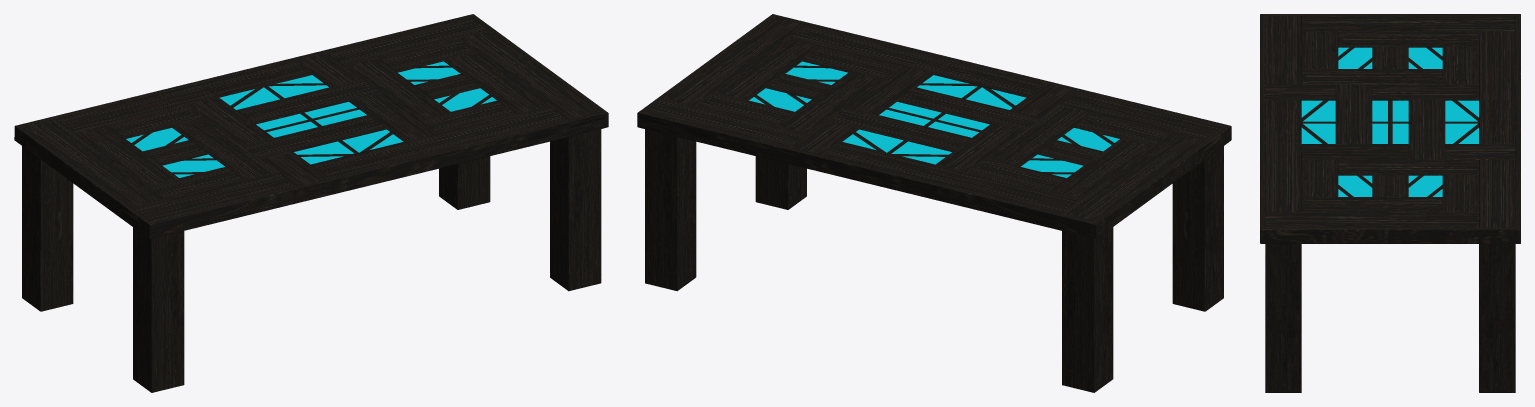
Rendered from Coffee Table Designed.fbx.
The picture shows the model from 3 angles, left to right: view 1: azimuth 30°, elevation 25°; view 2: azimuth 150°, elevation 25°; view 3: azimuth 270°, elevation 25°; orthographic projection. The views are drawn at different scales.
Parts seen in each view (by area): view 1: Cube.033, Cube.030, Base, Cube.003, Cube.002, Cube.008, Cube.001, Cube.006, Cube, Cube.031, Cube.021, Cube.020 (+18 smaller); view 2: Cube.033, Cube.030, Base, Cube.002, Cube.003, Cube.008, Cube.001, Cube.006, Cube, Cube.031, Cube.020, Cube.021 (+18 smaller); view 3: Cube.033, Base, Cube.032, Cube.002, Cube.003, Cube.030, Cube, Cube.001, Cube.006, Cube.008, Cube.009, Cube.017 (+21 smaller).
Boxes of the visible parts, left/top/right/bottom form: Cube.033: left=22, top=129, right=601, bottom=392; Cube.030: left=19, top=14, right=603, bottom=238; Base: left=126, top=61, right=496, bottom=177; Cube.003: left=458, top=31, right=600, bottom=119; Cube.002: left=22, top=119, right=164, bottom=207; Cube.008: left=133, top=172, right=296, bottom=221; Cube.001: left=326, top=17, right=489, bottom=66; Cube.006: left=55, top=83, right=217, bottom=132; Cube: left=405, top=106, right=567, bottom=155; Cube.031: left=14, top=125, right=150, bottom=236; Cube.021: left=236, top=79, right=380, bottom=124; Cube.020: left=242, top=115, right=386, bottom=159; Cube.033: left=645, top=129, right=1223, bottom=392; Cube.030: left=637, top=15, right=1231, bottom=237; Base: left=749, top=61, right=1119, bottom=177; Cube.002: left=1062, top=132, right=1204, bottom=221; Cube.003: left=664, top=17, right=806, bottom=106; Cube.008: left=1060, top=91, right=1223, bottom=140; Cube.001: left=645, top=98, right=808, bottom=147; Cube.006: left=917, top=164, right=1079, bottom=213; Cube: left=789, top=25, right=951, bottom=74; Cube.031: left=1092, top=127, right=1228, bottom=239; Cube.020: left=897, top=87, right=1041, bottom=131; Cube.021: left=827, top=107, right=971, bottom=151; Cube.033: left=1265, top=244, right=1515, bottom=392; Base: left=1301, top=47, right=1478, bottom=196; Cube.032: left=1260, top=228, right=1515, bottom=243; Cube.002: left=1301, top=16, right=1515, bottom=31; Cube.003: left=1265, top=212, right=1478, bottom=227; Cube.030: left=1260, top=14, right=1520, bottom=243; Cube: left=1265, top=144, right=1301, bottom=212; Cube.001: left=1479, top=159, right=1515, bottom=227; Cube.006: left=1479, top=31, right=1515, bottom=99; Cube.008: left=1265, top=16, right=1301, bottom=84; Cube.009: left=1338, top=159, right=1478, bottom=175; Cube.017: left=1338, top=31, right=1478, bottom=47.
Bounding box in the file's own units: 124 × 44.46 × 63.51.
